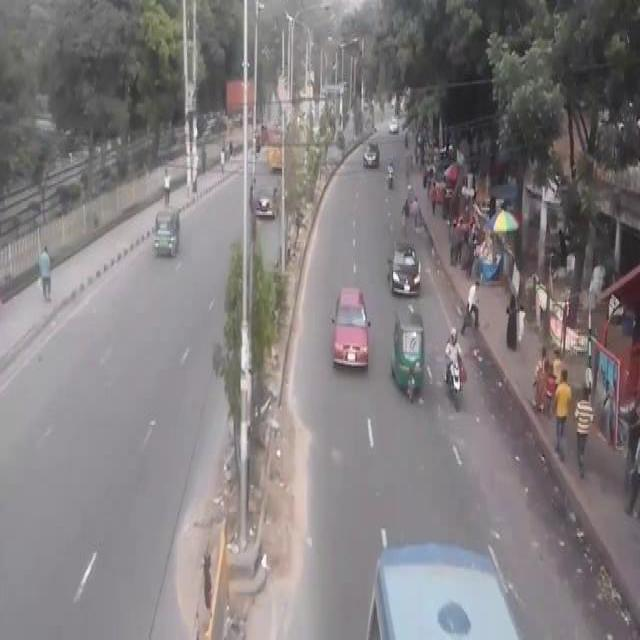bike: (443, 323, 469, 412)
vehicle: (332, 286, 372, 375), (391, 308, 427, 406), (386, 239, 422, 300), (154, 206, 180, 263)
